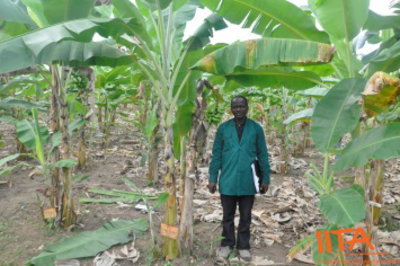bananaHand: (205, 102, 227, 128), (70, 68, 89, 92)
